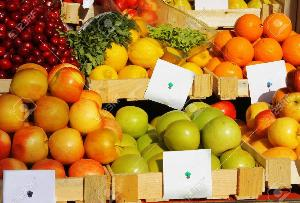apple: (1, 66, 113, 192), (107, 99, 253, 176), (246, 78, 300, 192)
lemon: (86, 36, 186, 92)
orange: (204, 12, 300, 88)
